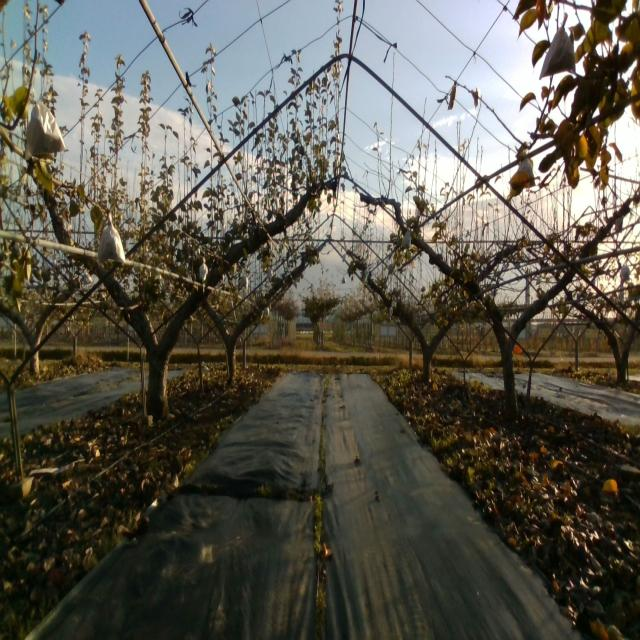pearbags: (23, 86, 66, 162), (538, 13, 576, 81), (96, 212, 126, 263), (518, 158, 536, 184), (401, 226, 412, 248)
